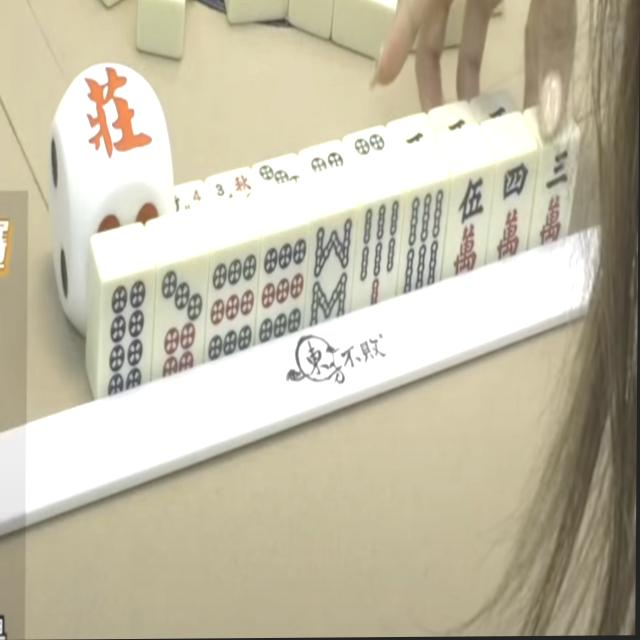m3: (533, 140, 577, 248)
m4: (491, 156, 537, 262)
m5: (445, 170, 492, 276)
s6: (399, 186, 450, 297)
s7: (355, 193, 405, 305)
s8: (310, 215, 358, 327)
t7: (156, 261, 209, 381)
t8: (104, 274, 153, 396)
t9: (204, 245, 257, 362), (257, 229, 309, 344)
